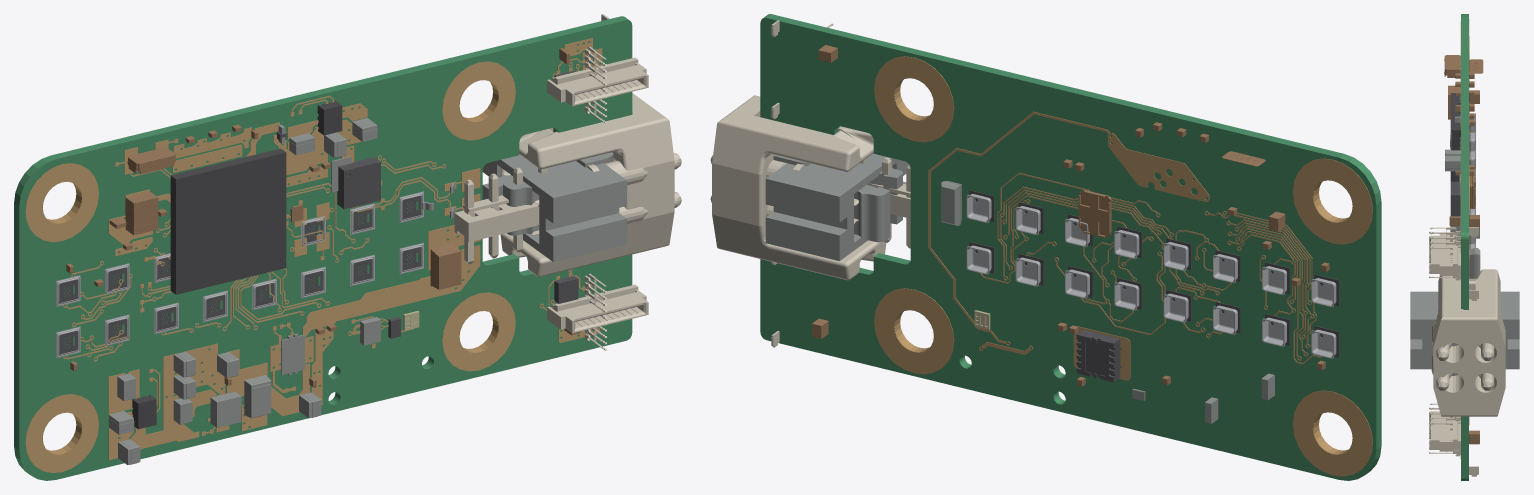
The model's file is assembly.glb.
The picture shows the model from 3 angles, left to right: view 1: azimuth 30°, elevation 25°; view 2: azimuth 150°, elevation 25°; view 3: azimuth 270°, elevation 25°; orthographic projection. The views are drawn at different scales.
Parts seen in each view (by area): view 1: board, copper, connectors, mechanics, ic_mcu, ic_other, passives, ic_mems, pads; view 2: board, copper, connectors, mechanics, ic_mems, ic_other, passives, pads; view 3: connectors, mechanics, board, passives, ic_mcu, ic_mems, ic_other, copper.
Part boxes in pixels (left/top/right/bottom): board: left=14, top=16, right=632, bottom=480; copper: left=25, top=38, right=602, bottom=472; connectors: left=454, top=14, right=681, bottom=350; mechanics: left=109, top=118, right=626, bottom=464; ic_mcu: left=132, top=101, right=342, bottom=429; ic_other: left=59, top=70, right=578, bottom=354; passives: left=66, top=48, right=580, bottom=386; ic_mems: left=56, top=191, right=423, bottom=358; pads: left=42, top=79, right=498, bottom=454; board: left=760, top=14, right=1381, bottom=480; copper: left=874, top=56, right=1372, bottom=476; connectors: left=710, top=20, right=910, bottom=347; mechanics: left=765, top=153, right=1274, bottom=423; ic_mems: left=966, top=194, right=1336, bottom=358; ic_other: left=969, top=190, right=1339, bottom=382; passives: left=812, top=45, right=1329, bottom=386; pads: left=894, top=78, right=1352, bottom=454; connectors: left=1429, top=227, right=1505, bottom=476; mechanics: left=1410, top=116, right=1519, bottom=375; board: left=1461, top=14, right=1468, bottom=480; passives: left=1444, top=55, right=1483, bottom=444; ic_mcu: left=1450, top=93, right=1460, bottom=181; ic_mems: left=1460, top=113, right=1475, bottom=249; ic_other: left=1450, top=112, right=1469, bottom=249; copper: left=1460, top=19, right=1469, bottom=458.
Size of the model in its own units: 0.053 by 0.0251 by 0.01.
